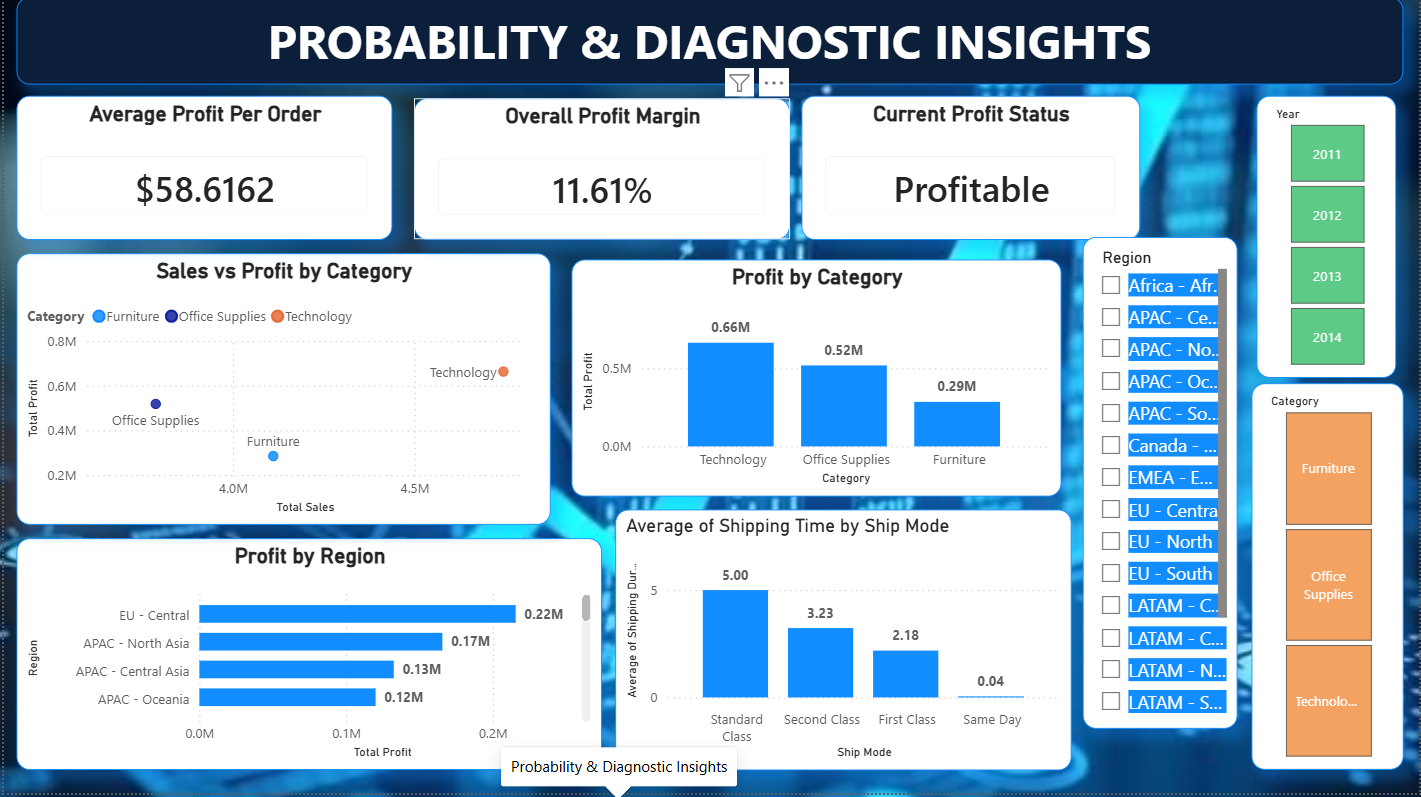

This screenshot's page, from the dashboard's own definition file:
{"tool":"powerbi","page":{"name":"Probability & Diagnostic Insights","canvas":[1280,720],"ordinal":2},"visuals":[{"type":"textbox","box":[11,0,1254.2,79.6],"z":0},{"type":"clusteredBarChart","title":"Profit by Region","fields":{"Category":["FactSales.Region"],"Y":["FactSales.Total Profit"]},"box":[11,489.9,529.7,209.9],"z":1000},{"type":"clusteredColumnChart","title":"Profit by Category","fields":{"Category":["FactSales.Category"],"Y":["FactSales.Total Profit"]},"box":[513.2,237.4,443.2,214.1],"z":2000},{"type":"clusteredColumnChart","title":"Average of Shipping Time by Ship Mode","fields":{"Category":["FactSales.Ship Mode"],"Y":["Avg(FactSales.Shipping Duration (Day))"]},"box":[553,463.8,413,236],"z":3000},{"type":"scatterChart","title":"Sales vs Profit by Category","fields":{"Series":["FactSales.Category"],"X":["FactSales.Total Sales"],"Y":["FactSales.Total Profit"]},"box":[11,231.9,483,245.6],"z":4000},{"type":"cardVisual","title":"Overall Profit Margin","fields":{"Data":["FactSales.Profit Margin %"]},"box":[370.5,91.9,340.3,127.6],"z":5000},{"type":"cardVisual","title":"Average Profit Per Order","fields":{"Data":["FactSales.Average Profit per Order"]},"box":[11,89.2,340.3,130.4],"z":6000},{"type":"cardVisual","title":"Current Profit Status","fields":{"Data":["FactSales.Profit Status"]},"box":[721.8,89.2,306,130.4],"z":7000},{"type":"slicer","fields":{"Values":["DimDate.Year"]},"box":[1133.5,89.2,126.2,255.2],"z":8000},{"type":"slicer","fields":{"Values":["FactSales.Region"]},"box":[975.6,216.8,140,444.6],"z":9000},{"type":"slicer","fields":{"Values":["FactSales.Category"]},"box":[1128,349.9,137.2,349.9],"z":10000}]}

Visuals, with their boxes in screenshot pixels (x1, y1, x2, y2), scaled from the page's 1280x720 canvas onto the 1421x797 screenshot:
textbox: box=[12, 0, 1405, 88]
"Profit by Region" clusteredBarChart: box=[12, 542, 600, 775]
"Profit by Category" clusteredColumnChart: box=[570, 263, 1062, 500]
"Average of Shipping Time by Ship Mode" clusteredColumnChart: box=[614, 513, 1072, 775]
"Sales vs Profit by Category" scatterChart: box=[12, 257, 548, 529]
"Overall Profit Margin" cardVisual: box=[411, 102, 789, 243]
"Average Profit Per Order" cardVisual: box=[12, 99, 390, 243]
"Current Profit Status" cardVisual: box=[801, 99, 1141, 243]
slicer - DimDate.Year: box=[1258, 99, 1398, 381]
slicer - FactSales.Region: box=[1083, 240, 1238, 732]
slicer - FactSales.Category: box=[1252, 387, 1405, 775]
